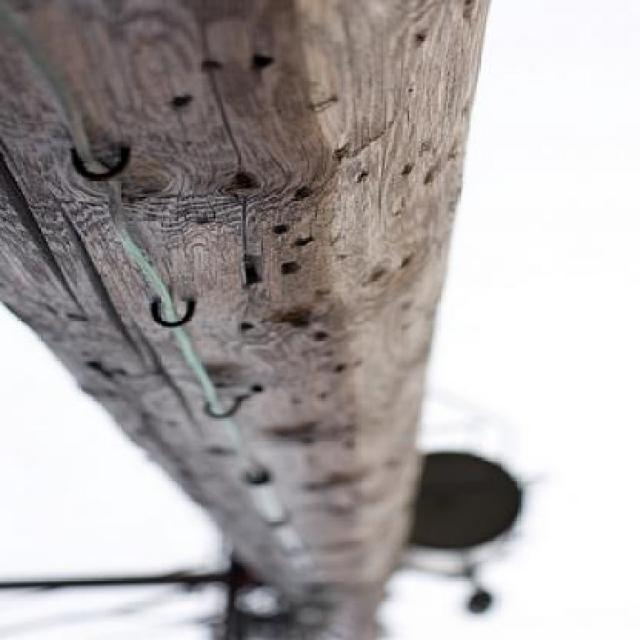pole: (130, 0, 448, 585)
